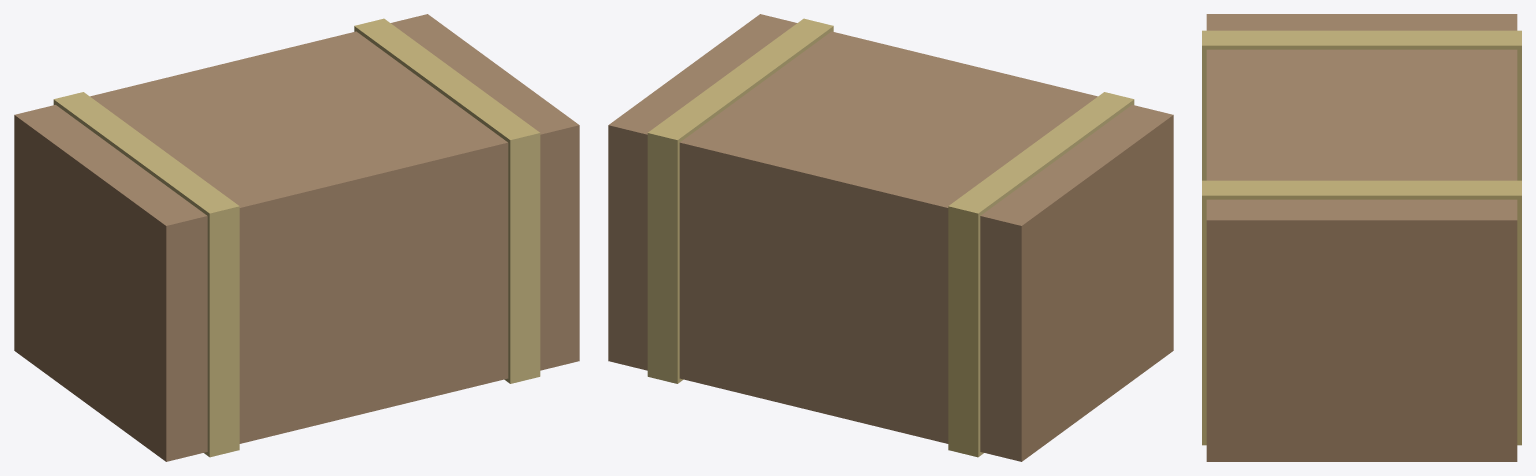
File: chest_base.glb
3 renders of one model, left to right at view 1: azimuth 30°, elevation 25°; view 2: azimuth 150°, elevation 25°; view 3: azimuth 270°, elevation 25°, orthographic. The views are drawn at different scales.
Visible parts, largest first — view 1: chest_base2; view 2: chest_base2; view 3: chest_base2.
Boxes of the visible parts, x1,y1,x2,y2 form: chest_base2: (14, 14, 579, 461); chest_base2: (608, 14, 1173, 461); chest_base2: (1202, 14, 1521, 461).
Bounding box in the file's own units: 1.1 × 0.62 × 0.72.
